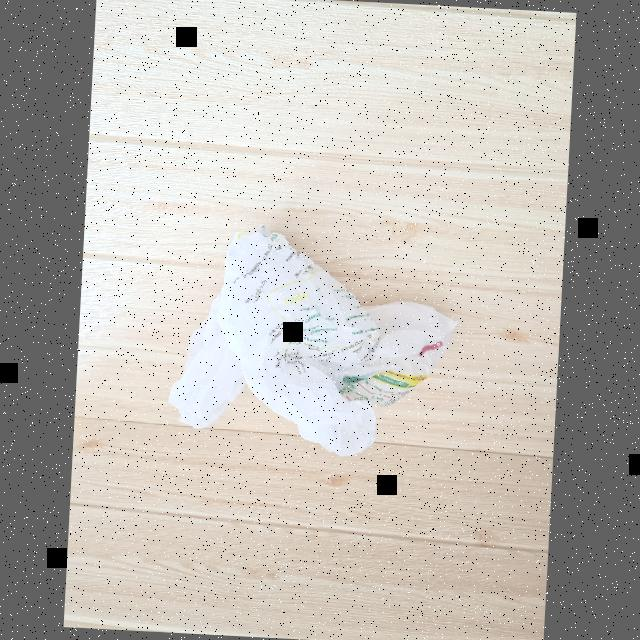plastic_bag: (156, 225, 458, 456)
